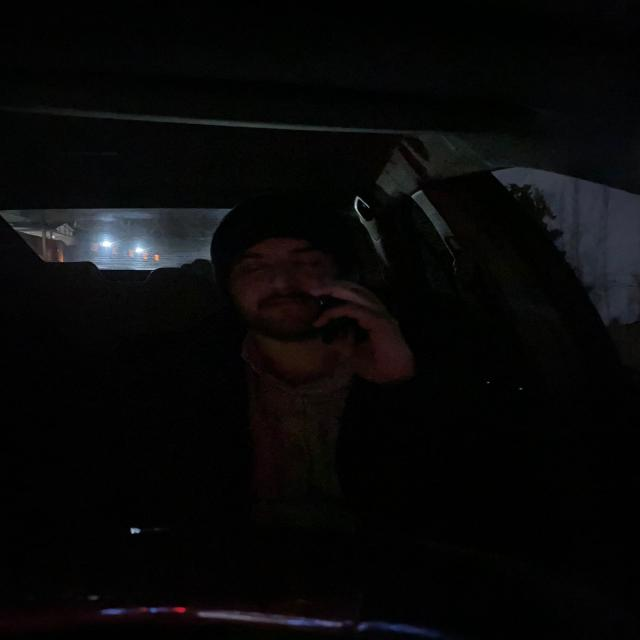mobile: (324, 271, 366, 347)
person: (210, 195, 351, 351)
